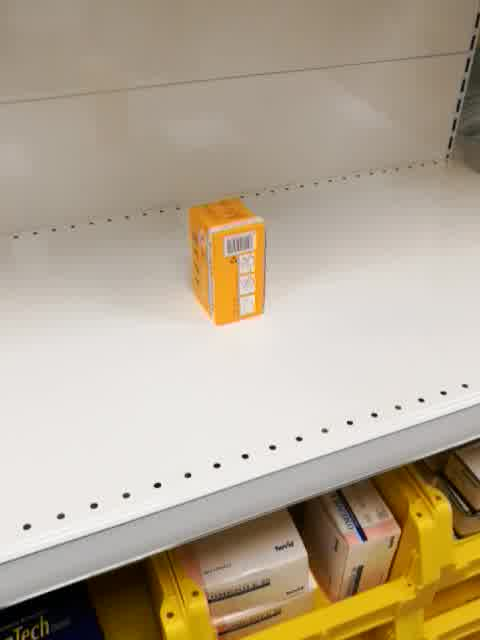jasminetea: (188, 196, 266, 326)
